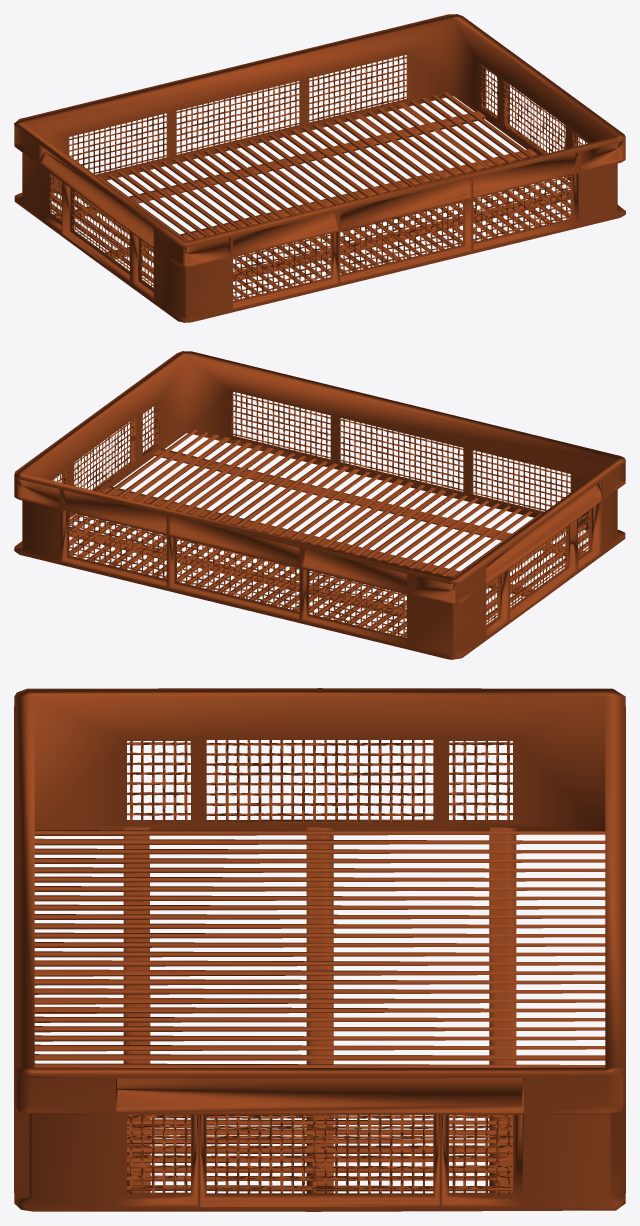
File: crate-orange.glb
3 renders of one model, top to bottom at view 1: azimuth 30°, elevation 25°; view 2: azimuth 150°, elevation 25°; view 3: azimuth 270°, elevation 25°, orthographic. The views are drawn at different scales.
Visible parts, largest first — view 1: sm_crate_orange_a19_01; view 2: sm_crate_orange_a19_01; view 3: sm_crate_orange_a19_01.
Part boxes in pixels (x1=…): sm_crate_orange_a19_01: x1=14, y1=14, x2=625, y2=322; sm_crate_orange_a19_01: x1=14, y1=351, x2=625, y2=659; sm_crate_orange_a19_01: x1=14, y1=688, x2=625, y2=1211.
Size of the model in its own units: 0.6015 by 0.0994 by 0.4017.
